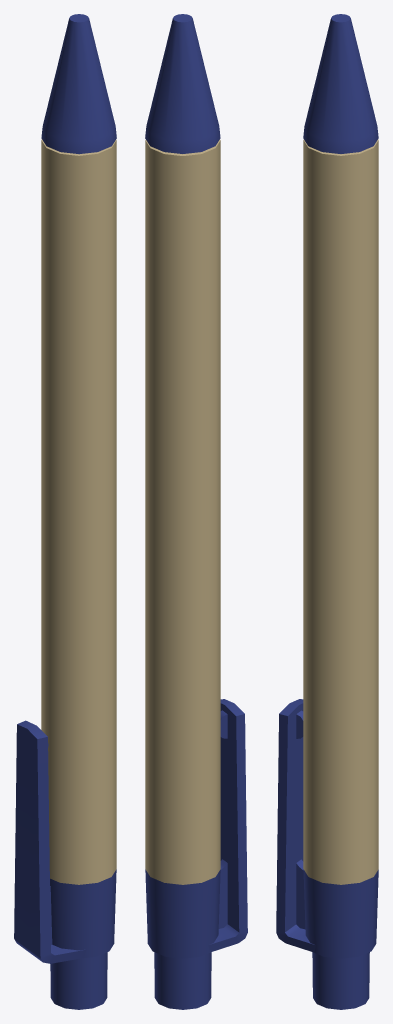
Rendered from pen_recycled.fbx.
The picture shows the model from 3 angles, left to right: view 1: azimuth 30°, elevation 25°; view 2: azimuth 210°, elevation 25°; view 3: azimuth 330°, elevation 25°; orthographic projection.
Visible parts, largest first — view 1: pen_basic.001; view 2: pen_basic.001; view 3: pen_basic.001.
Part boxes in pixels (left/top/right/bottom): pen_basic.001: left=14, top=14, right=116, bottom=1009; pen_basic.001: left=145, top=14, right=247, bottom=1009; pen_basic.001: left=276, top=14, right=378, bottom=1009.
Size of the model in its own units: 0.0212 by 0.0164 by 0.2345.
